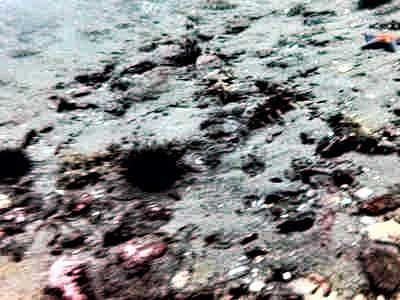urchin: (123, 145, 178, 191), (1, 145, 31, 182)
